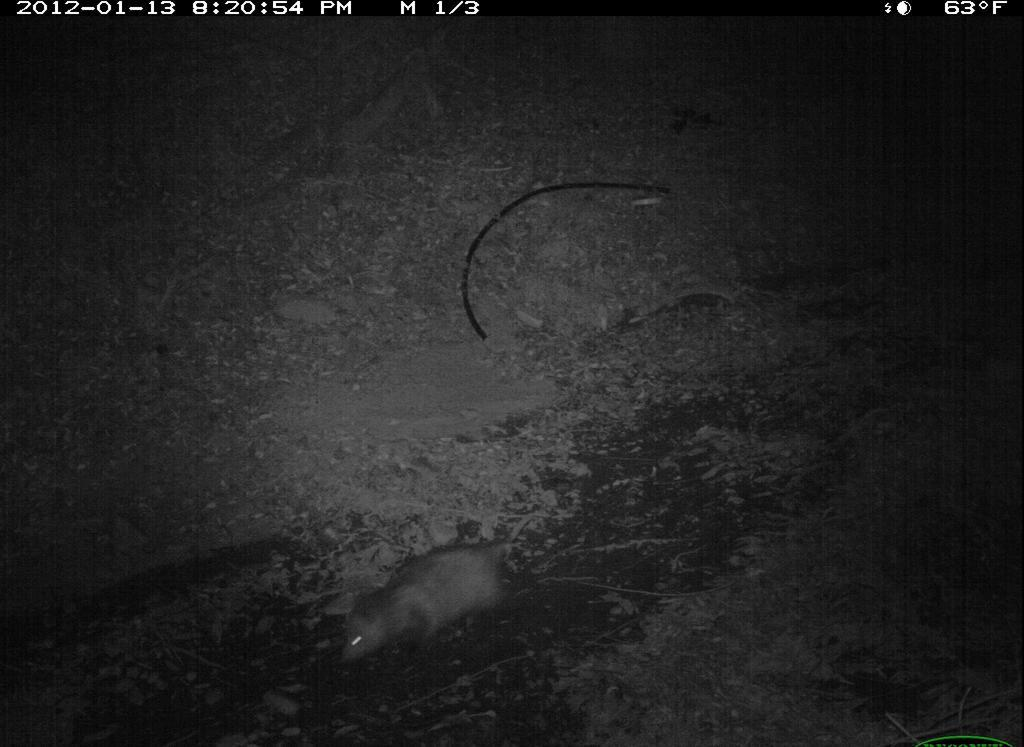opossum: (335, 527, 536, 675)
